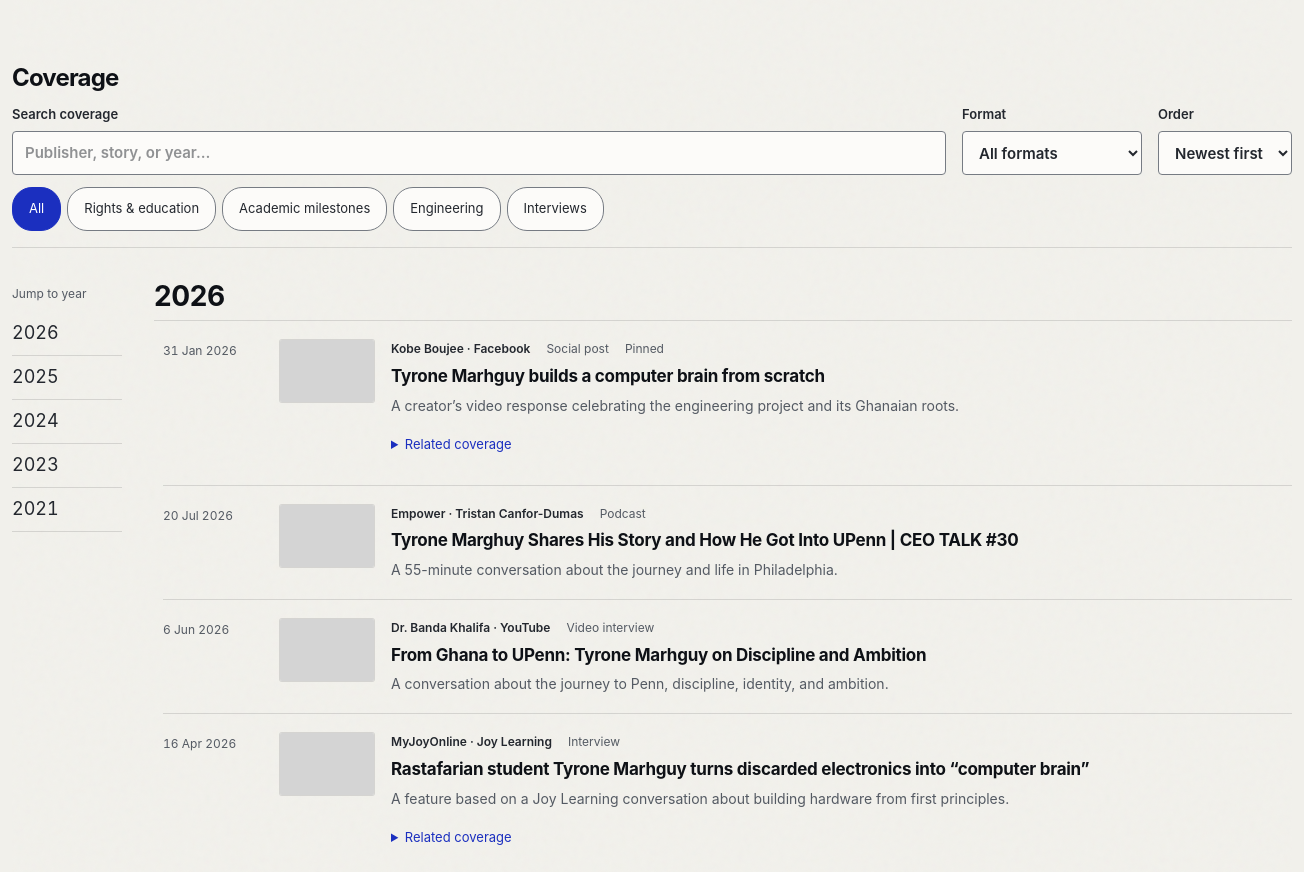
Test: coverage archive controls › pins Kobe first without changing its publication date
This screenshot has width=1304, height=872.
Expected: the list item that starts with "31 Jan 2026" shows "Kobe Boujee", x1=391 y1=341 x2=530 y2=356
Expected: the list item that starts with "31 Jan 2026" shows "Pinned", x1=625 y1=341 x2=664 y2=356
Select "Oldest first" in the dropdown labelled "Order" at (1225, 153), box x1=1158 y1=131 x2=1292 y2=175
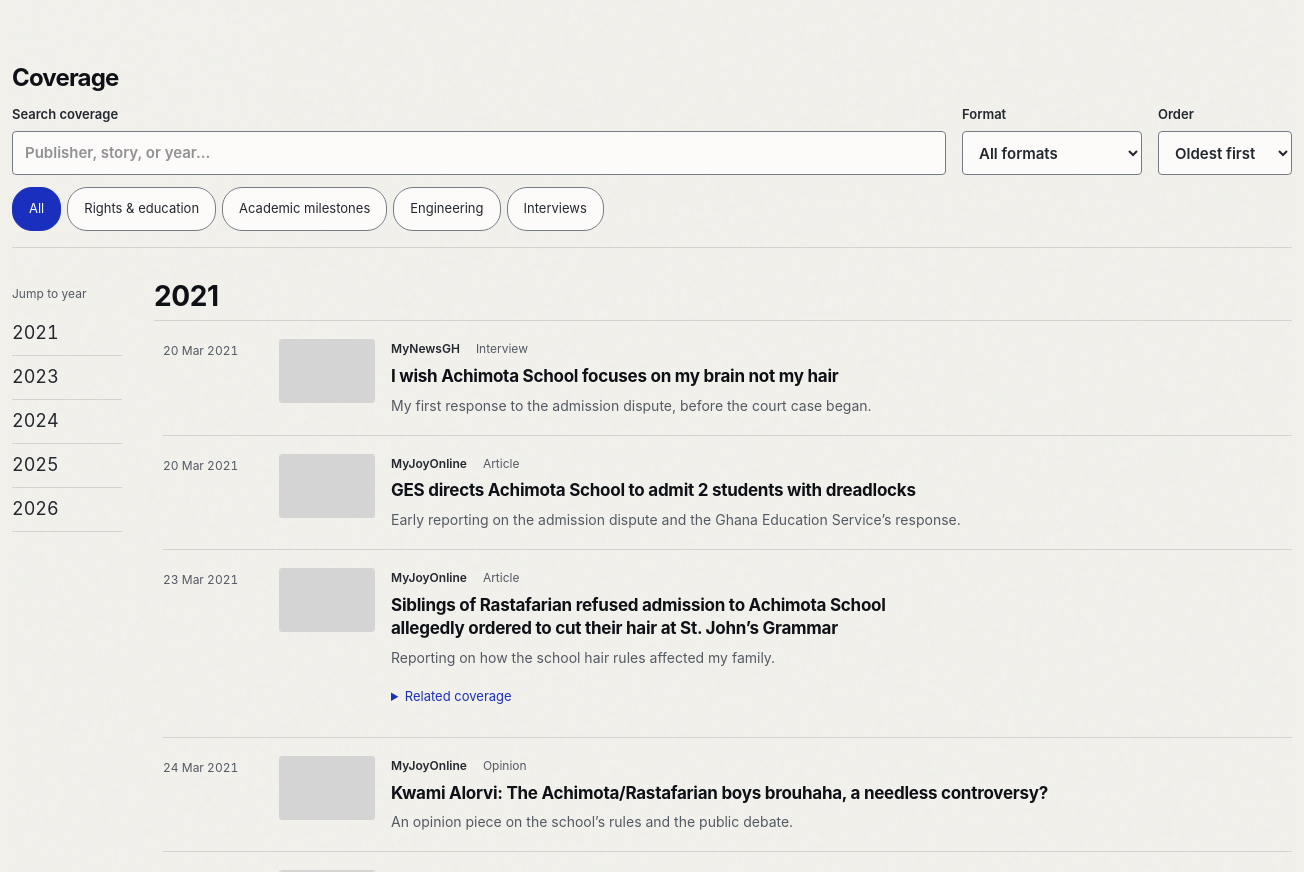
Expected: the text "Pinned" is gone
